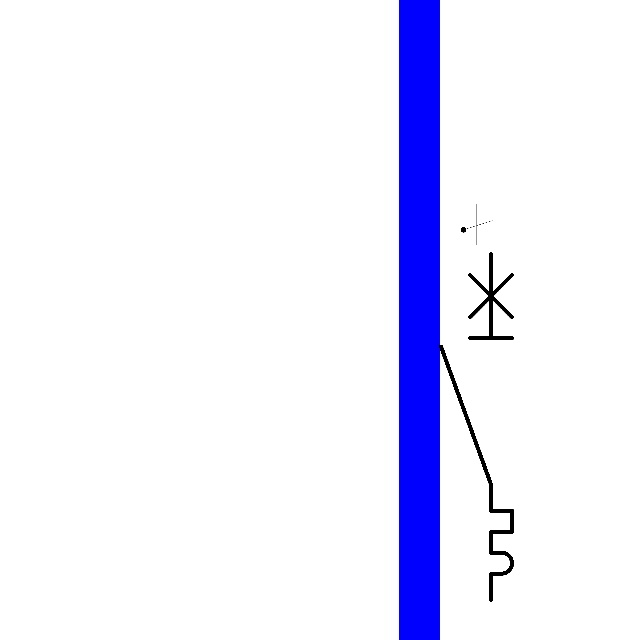interruptor_termomagnetico: (432, 245, 521, 609)
